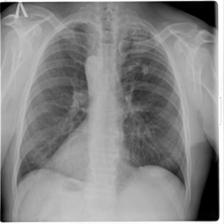tuberculosis: (13, 14, 191, 193)
